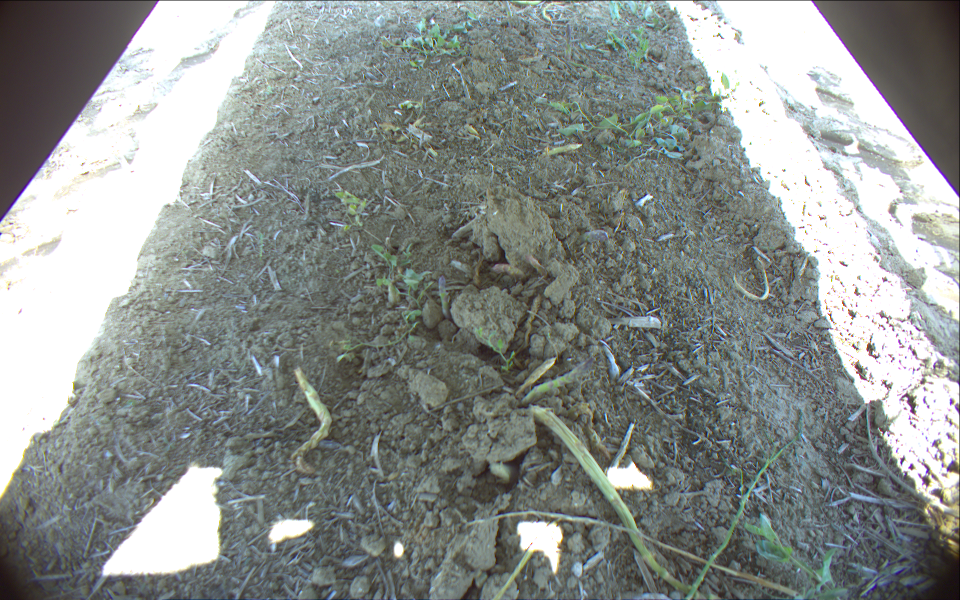aspa: (531, 404, 702, 600), (295, 368, 331, 473), (521, 359, 594, 406), (544, 141, 584, 158), (541, 1, 566, 24), (564, 25, 573, 60), (507, 1, 547, 7)
